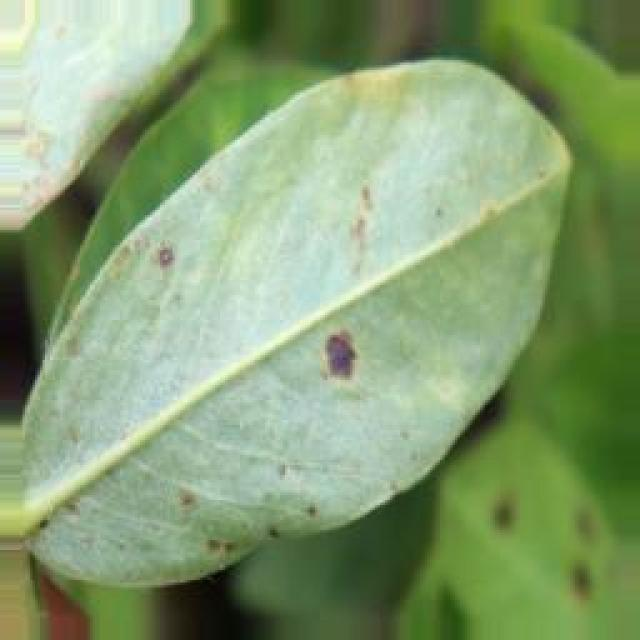Yellowish: (457, 460, 626, 626), (314, 180, 418, 418), (0, 0, 112, 180), (161, 449, 329, 561), (84, 210, 207, 292)
